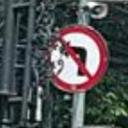NoVirarEsquerda: (44, 27, 107, 95)
